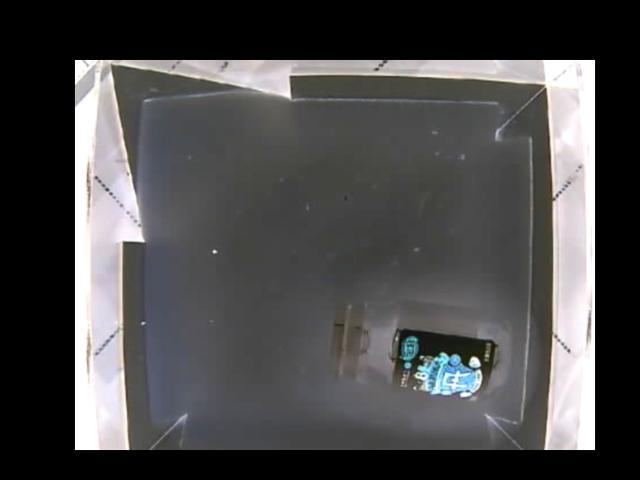Bottle: (327, 298, 512, 403)
